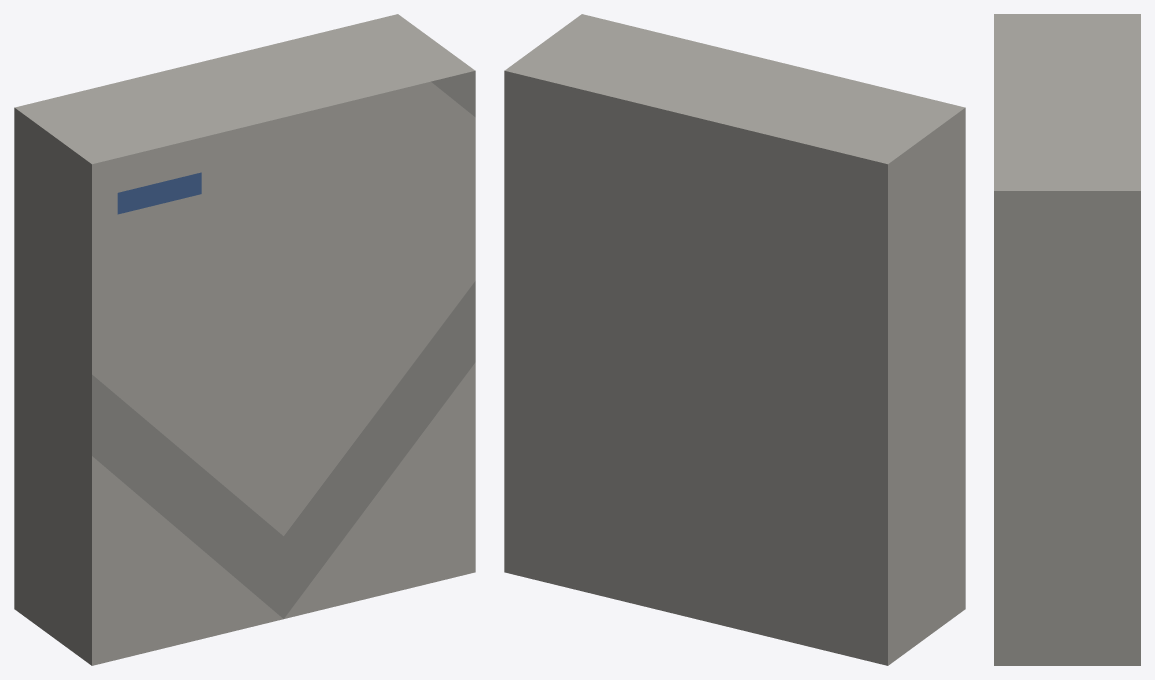
Rendered from SM_Props_Interior_Shop_Electronic_Product_Box_04.fbx.
3 renders of one model, left to right at view 1: azimuth 30°, elevation 25°; view 2: azimuth 150°, elevation 25°; view 3: azimuth 270°, elevation 25°, orthographic. The views are drawn at different scales.
Parts seen in each view (by area): view 1: SM_Props_Interior_Shop_Electronic_Product_Box_04; view 2: SM_Props_Interior_Shop_Electronic_Product_Box_04; view 3: SM_Props_Interior_Shop_Electronic_Product_Box_04.
Part boxes in pixels (x1,y1,x2,y2): SM_Props_Interior_Shop_Electronic_Product_Box_04: (14, 14, 475, 665); SM_Props_Interior_Shop_Electronic_Product_Box_04: (504, 14, 965, 665); SM_Props_Interior_Shop_Electronic_Product_Box_04: (994, 14, 1140, 665).
Bounding box in the file's own units: 16 × 20 × 5.6.
